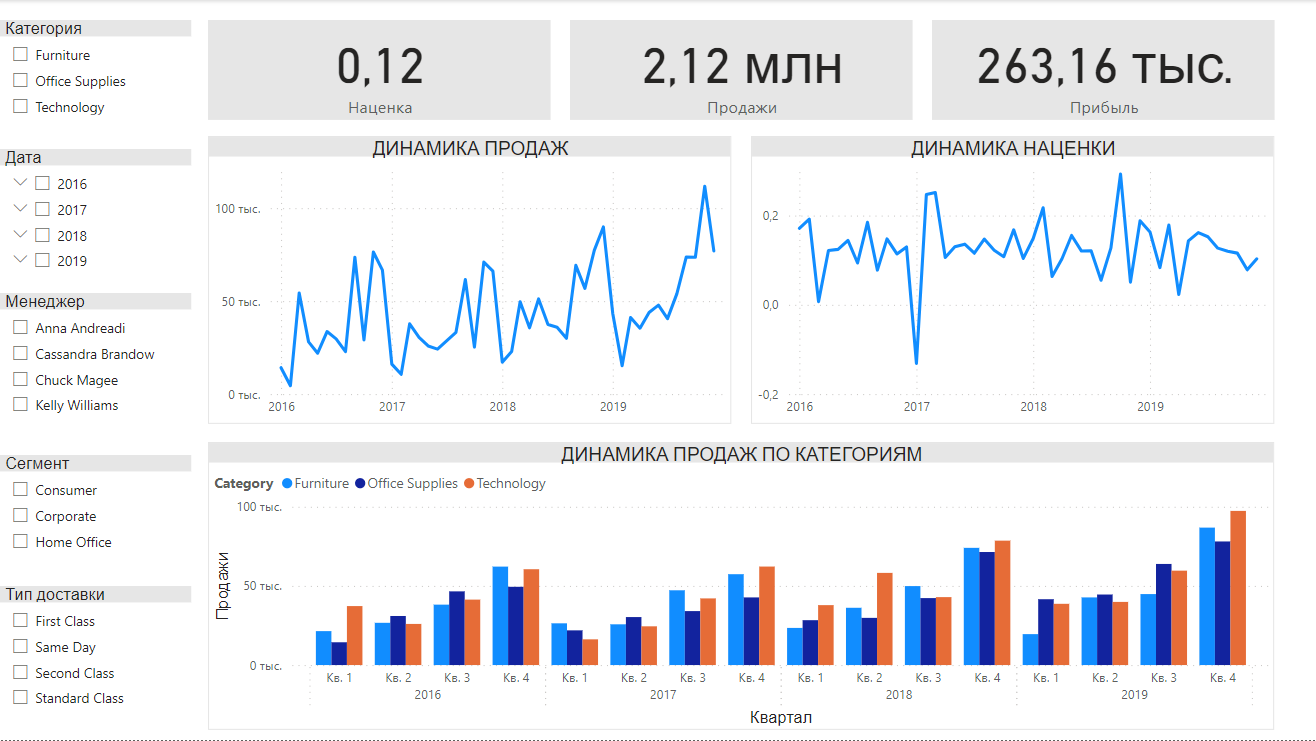

The page's visual inventory and layout, read from the dashboard file:
{"tool":"powerbi","page":{"name":"Dashboard","canvas":[1280,720],"ordinal":0},"visuals":[{"type":"lineChart","title":"ДИНАМИКА ПРОДАЖ","fields":{"Category":["Orders2.Order Date.Изменение.Иерархия дат.Год","Orders2.Order Date.Изменение.Иерархия дат.Квартал","Orders2.Order Date.Изменение.Иерархия дат.Месяц","Orders2.Order Date.Изменение.Иерархия дат.День"],"Y":["Orders2.sales_"]},"box":[202.3,132.3,508.7,280.1],"z":0},{"type":"lineChart","title":"ДИНАМИКА НАЦЕНКИ","fields":{"Category":["Orders2.Order Date.Изменение.Иерархия дат.Год","Orders2.Order Date.Изменение.Иерархия дат.Квартал","Orders2.Order Date.Изменение.Иерархия дат.Месяц","Orders2.Order Date.Изменение.Иерархия дат.День"],"Y":["Orders2.Наценка"]},"box":[730.5,132.3,508.7,280.1],"z":1000},{"type":"clusteredColumnChart","title":"ДИНАМИКА ПРОДАЖ ПО КАТЕГОРИЯМ","fields":{"Y":["Orders2.sales_"],"Series":["Orders2.Category"],"Category":["Orders2.Order Date.Изменение.Иерархия дат.Год","Orders2.Order Date.Изменение.Иерархия дат.Квартал","Orders2.Order Date.Изменение.Иерархия дат.Месяц","Orders2.Order Date.Изменение.Иерархия дат.День"]},"box":[202.3,429.9,1036.8,280.1],"z":2000},{"type":"card","fields":{"Values":["Orders2.profit_"]},"box":[906.5,19.5,332.6,97.3],"z":3000},{"type":"card","fields":{"Values":["Orders2.sales_"]},"box":[554.4,19.5,332.6,97.3],"z":4000},{"type":"card","fields":{"Values":["Orders2.Наценка"]},"box":[202.3,19.5,332.6,97.3],"z":5000},{"type":"slicer","title":"Категория","fields":{"Values":["Orders2.Category"]},"box":[0,19.5,185.8,127.4],"z":6000},{"type":"slicer","title":"Дата","fields":{"Values":["Orders2.Order Date.Изменение.Иерархия дат.Год","Orders2.Order Date.Изменение.Иерархия дат.Квартал","Orders2.Order Date.Изменение.Иерархия дат.Месяц","Orders2.Order Date.Изменение.Иерархия дат.День"]},"box":[0,144.9,185.8,127.4],"z":7000},{"type":"slicer","title":"Менеджер","fields":{"Values":["People2.Person"]},"box":[0,285,185.8,144.9],"z":7001},{"type":"slicer","title":"Сегмент","fields":{"Values":["Orders2.Segment"]},"box":[0,442.6,185.8,127.4],"z":7002},{"type":"slicer","title":"Тип доставки","fields":{"Values":["Orders2.Ship Mode"]},"box":[0,570,185.8,127.4],"z":7003}]}

Visuals, with their boxes in screenshot pixels (x1, y1, x2, y2), scaled from the page's 1280x720 canvas onto the 1316x741 screenshot:
"ДИНАМИКА ПРОДАЖ" lineChart: x1=208 y1=136 x2=731 y2=424
"ДИНАМИКА НАЦЕНКИ" lineChart: x1=751 y1=136 x2=1274 y2=424
"ДИНАМИКА ПРОДАЖ ПО КАТЕГОРИЯМ" clusteredColumnChart: x1=208 y1=442 x2=1274 y2=731
card - Orders2.profit_: x1=932 y1=20 x2=1274 y2=120
card - Orders2.sales_: x1=570 y1=20 x2=912 y2=120
card - Orders2.Наценка: x1=208 y1=20 x2=550 y2=120
"Категория" slicer: x1=0 y1=20 x2=191 y2=151
"Дата" slicer: x1=0 y1=149 x2=191 y2=280
"Менеджер" slicer: x1=0 y1=293 x2=191 y2=442
"Сегмент" slicer: x1=0 y1=456 x2=191 y2=587
"Тип доставки" slicer: x1=0 y1=587 x2=191 y2=718
